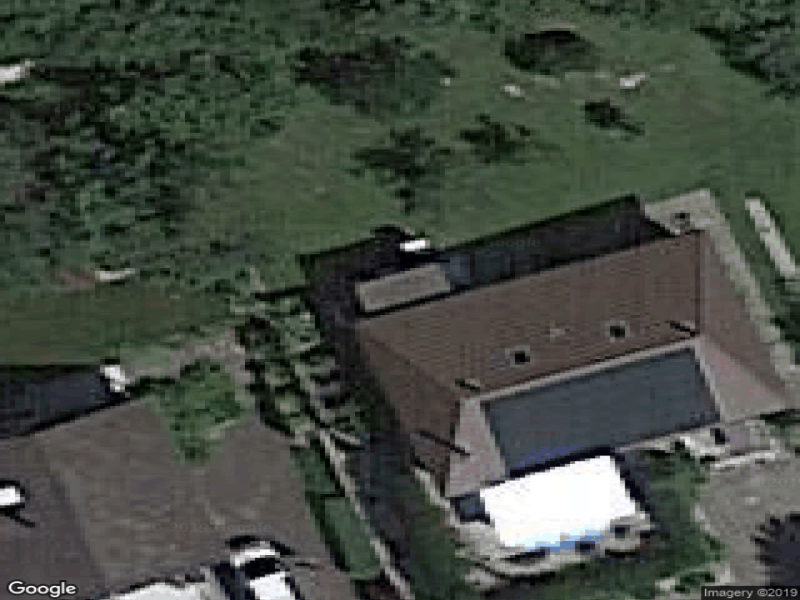pv: (486, 350, 724, 477)
